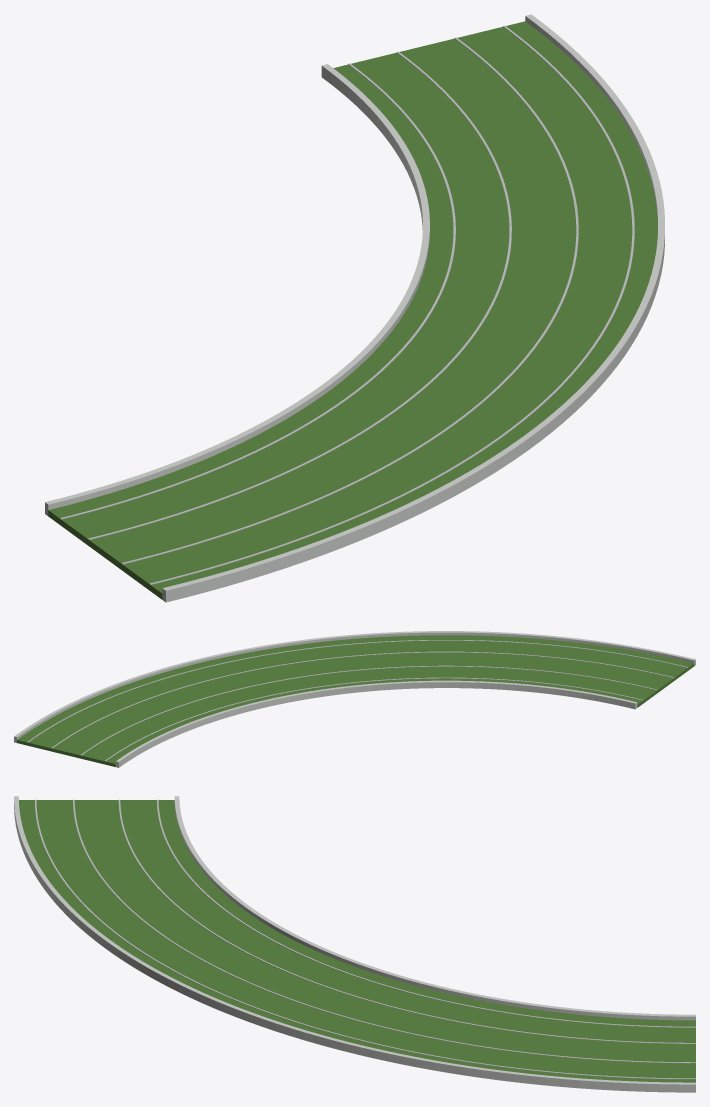
File: PT_TramTrack_Grass_Curve90_R25.glb
3 views of the same model, one above another, from view 1: azimuth 30°, elevation 25°; view 2: azimuth 150°, elevation 25°; view 3: azimuth 270°, elevation 25° (orthographic). The views are drawn at different scales.
Parts seen in each view (by area): view 1: Bed_Grass, Curb, Rails; view 2: Bed_Grass, Curb, Rails; view 3: Bed_Grass, Curb, Rails.
Boxes of the visible parts, x1,y1,x2,y2 form: Bed_Grass: (48,21,657,599); Curb: (45,14,664,602); Rails: (60,25,634,584); Bed_Grass: (17,635,694,766); Curb: (14,631,695,767); Rails: (27,640,688,761); Bed_Grass: (19,800,695,1082); Curb: (14,796,695,1092); Rails: (34,799,695,1079).
Size of the model in its own units: 28.45 by 0.37 by 28.45.
